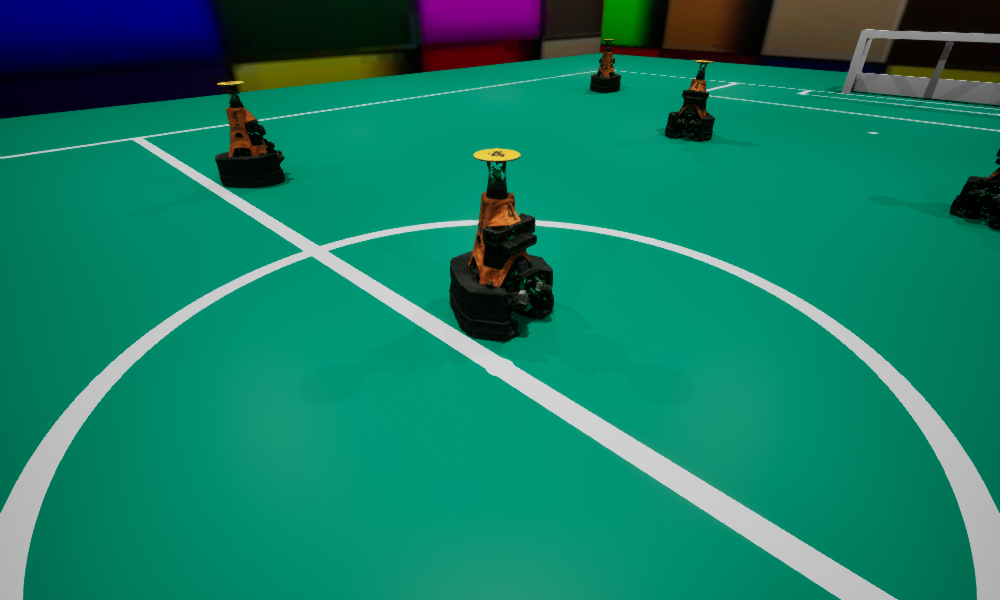o: (449, 148, 553, 341), (215, 81, 284, 187), (665, 60, 714, 140), (950, 149, 999, 228), (590, 39, 620, 92)
